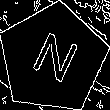N_SW: (25, 27, 81, 90)
